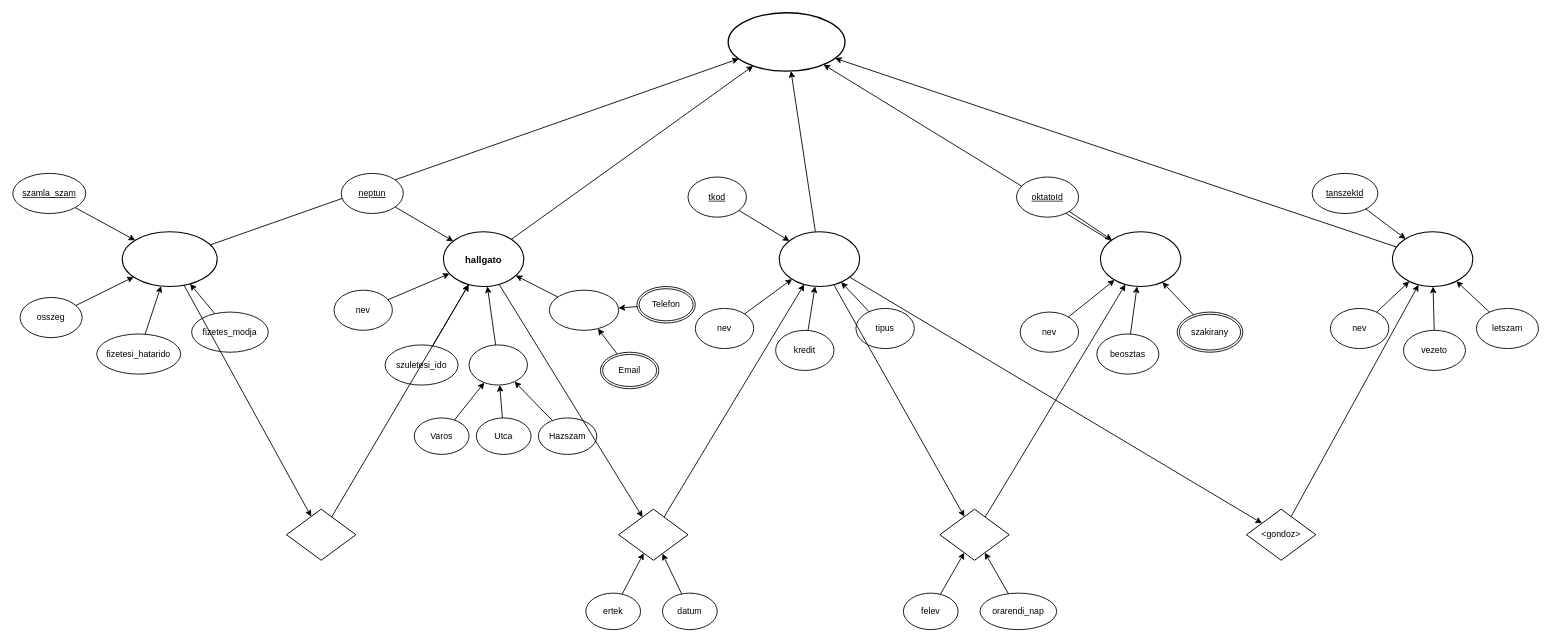
Some shapes in this 1552 by 643 pixel diagram are drawn without their labels. The shapes that lost their labels are listed below. From the top down, each one's centre as x and y in pixels, then its label:
At [786,41]: "EgyetemiRendszer".
At [169,259]: "Koltsegterites".
At [819,259]: "tantargy".
At [1140,259]: "oktato".
At [1432,259]: "tanszek".
At [584,309]: "Elerhetoseg".
At [497,364]: "Cim".
At [321,534]: "<befizet>".
At [653,534]: "<jegy>".
At [974,534]: "<oktat>".
